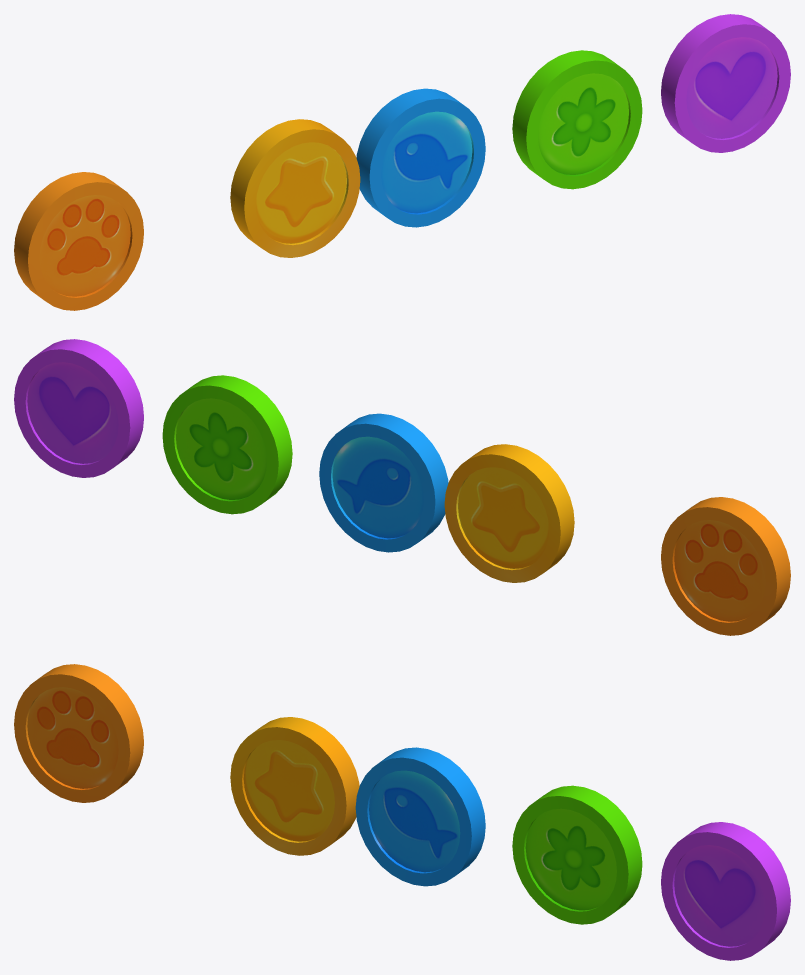
The model's file is coins-5.fbx.
3 views of the same model, one above another, from view 1: azimuth 30°, elevation 25°; view 2: azimuth 150°, elevation 25°; view 3: azimuth 330°, elevation 25° (orthographic).
Visible parts, largest first — view 1: flower, star, cat foot, flower001, fish; view 2: flower, star, cat foot, flower001, fish; view 3: flower, fish, cat foot, flower001, star.
Part boxes in pixels (x1,y1,x2,y2): flower: [512, 50, 642, 189]; star: [230, 119, 360, 257]; cat foot: [14, 172, 143, 310]; flower001: [661, 14, 790, 152]; fish: [356, 88, 485, 227]; flower: [162, 375, 292, 514]; star: [444, 444, 574, 582]; cat foot: [661, 497, 790, 635]; flower001: [14, 339, 143, 477]; fish: [319, 413, 448, 552]; flower: [512, 785, 642, 924]; fish: [355, 747, 485, 886]; cat foot: [14, 664, 143, 802]; flower001: [661, 822, 790, 960]; star: [230, 717, 359, 855].
Bounding box in the file's own units: 127 × 20 × 4.
